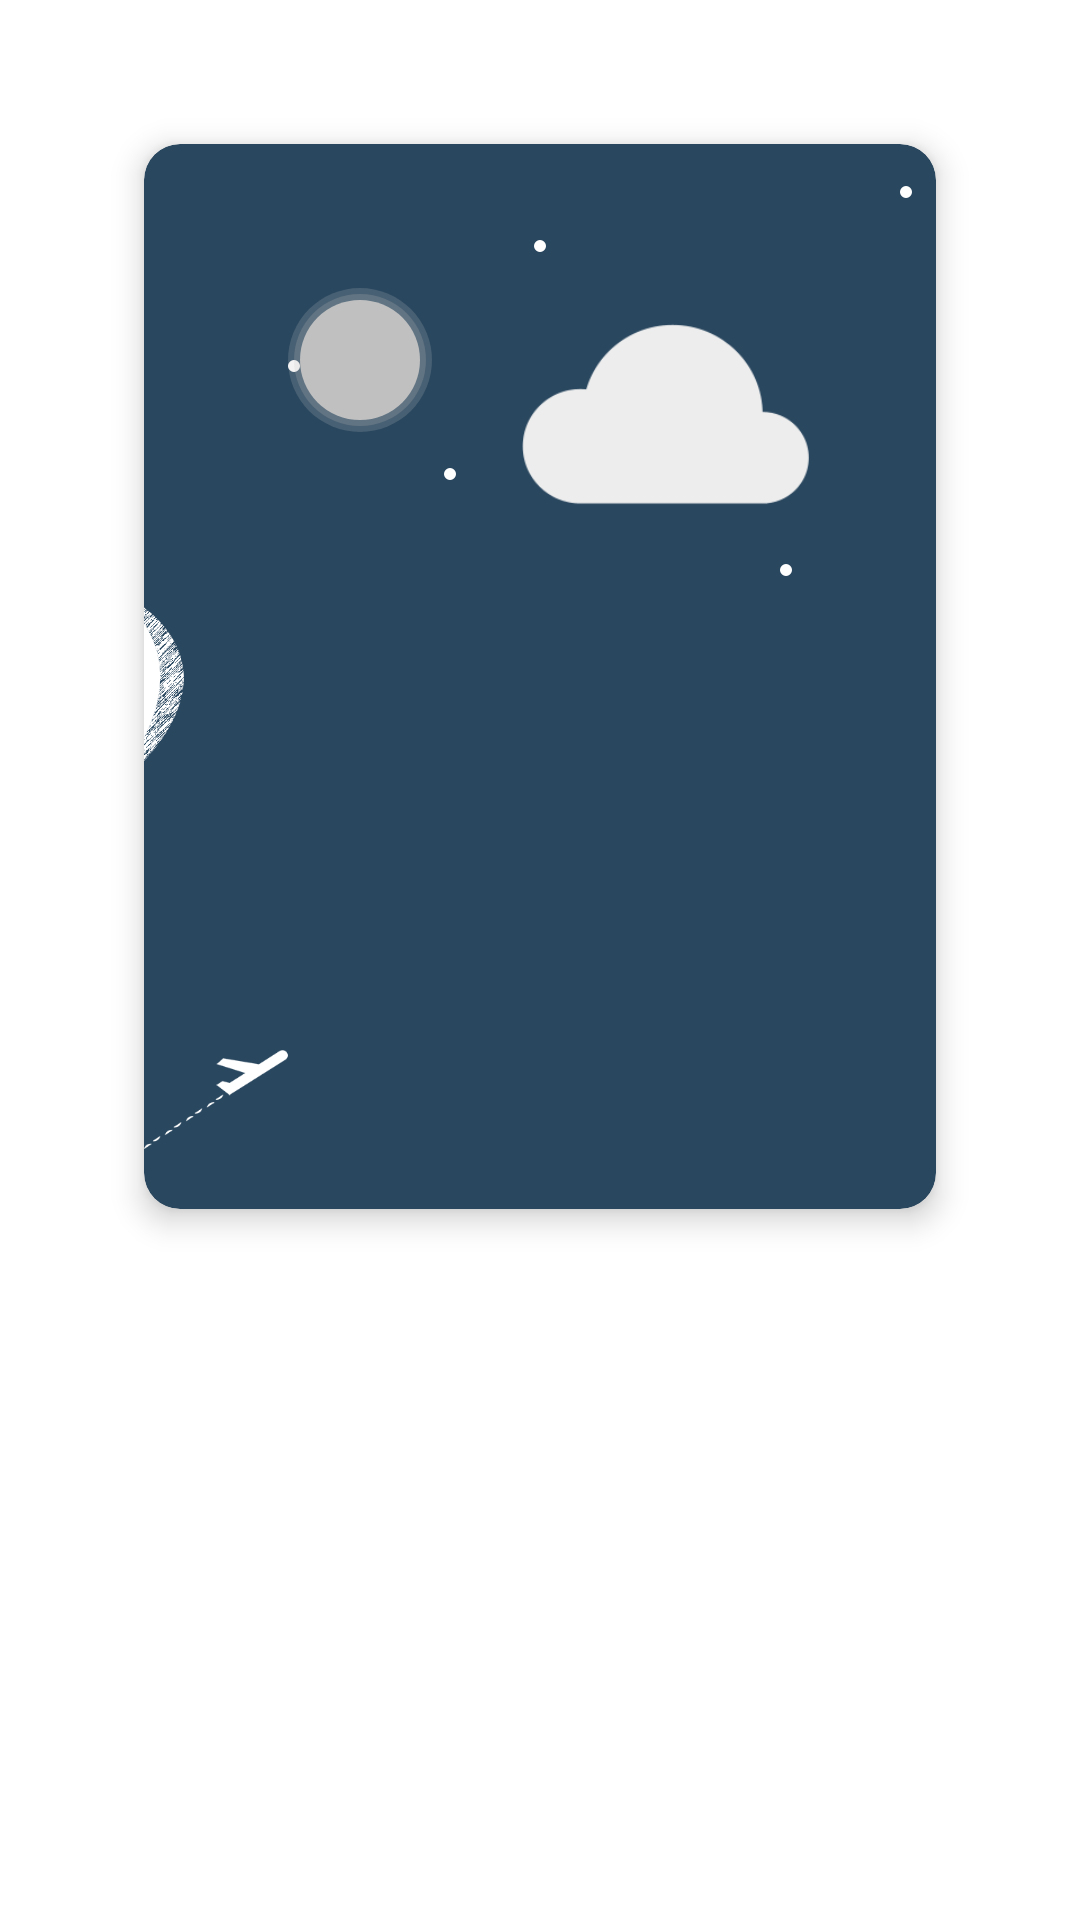

Named icons in this screenshot (1080 × 1920) and their bounding boxes, (x1, y1, x2, y2):
cloud: (522, 324, 809, 504)
plane: (153, 1050, 288, 1142)
